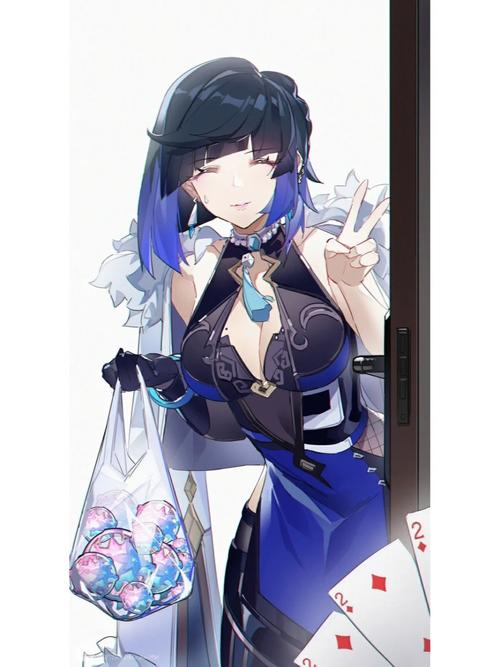夜兰: (102, 50, 396, 667)
